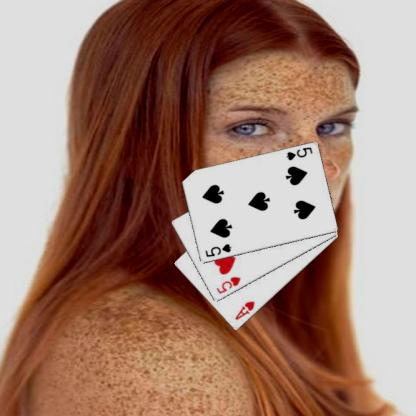5H: (214, 274, 242, 296)
5S: (283, 144, 314, 162), (202, 241, 232, 259)
AH: (232, 298, 256, 322)
